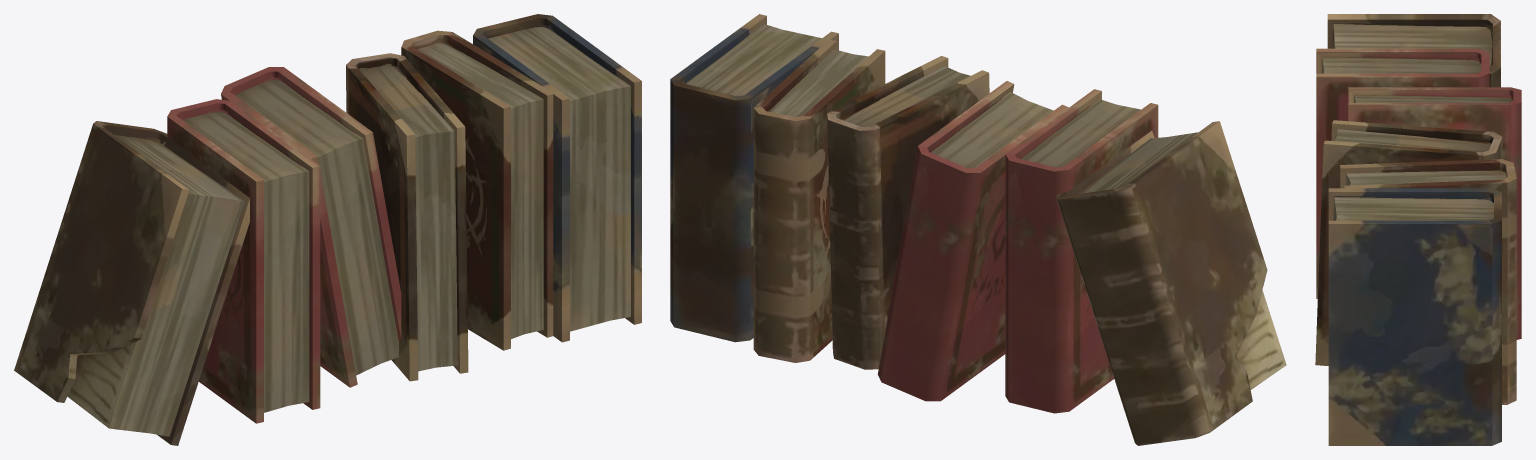
The picture shows the model from 3 angles, left to right: view 1: azimuth 30°, elevation 25°; view 2: azimuth 150°, elevation 25°; view 3: azimuth 270°, elevation 25°; orthographic projection. The views are drawn at different scales.
Visible parts, largest first — view 1: SM_DR_BookStack_03_LOD0; view 2: SM_DR_BookStack_03_LOD0; view 3: SM_DR_BookStack_03_LOD0.
Boxes of the visible parts, box(x1,y1,x2,y2) form: SM_DR_BookStack_03_LOD0: box(14, 14, 641, 445); SM_DR_BookStack_03_LOD0: box(670, 14, 1286, 445); SM_DR_BookStack_03_LOD0: box(1315, 14, 1521, 445).
Bounding box in the file's own units: 0.8919 × 0.4046 × 0.3223.
1 material, 1 textured.
